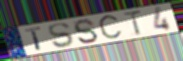4: (152, 5, 173, 33)
C: (97, 13, 125, 42)
S: (72, 18, 100, 45), (47, 22, 75, 49)
T: (122, 9, 144, 37), (23, 25, 43, 52)
